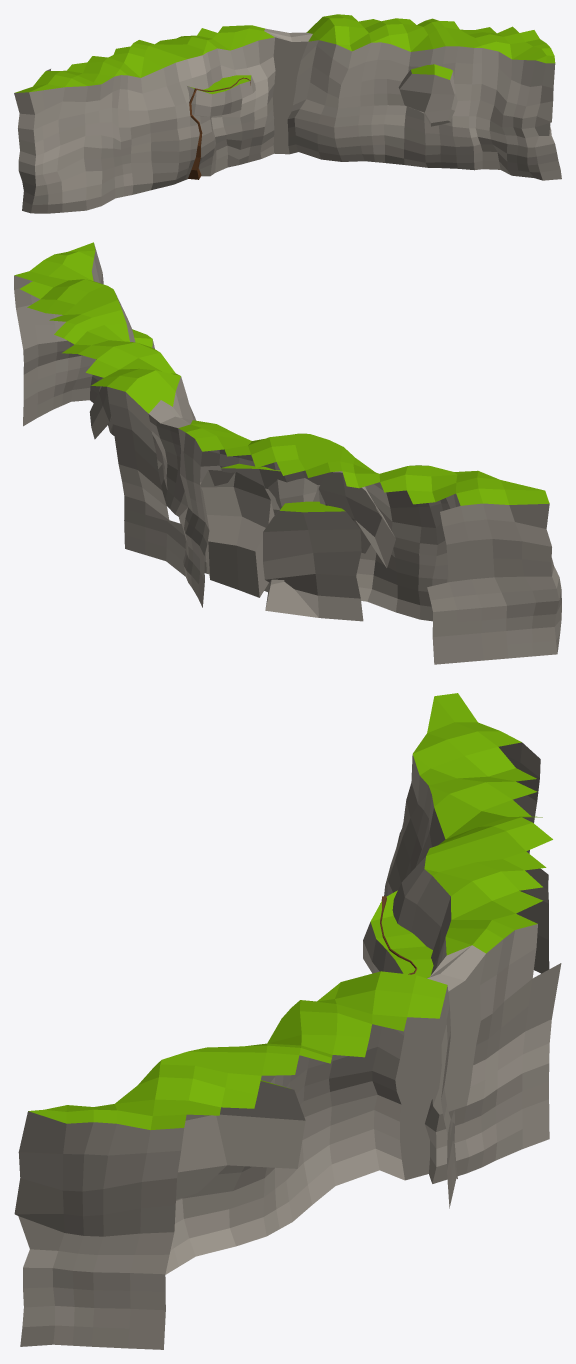
The model's file is Cliff 004.fbx.
3 renders of one model, top to bottom at view 1: azimuth 30°, elevation 25°; view 2: azimuth 150°, elevation 25°; view 3: azimuth 270°, elevation 25°, orthographic. The views are drawn at different scales.
Visible parts, largest first — view 1: Cliff 004; view 2: Cliff 004; view 3: Cliff 004.
Part boxes in pixels (x1,y1,x2,y2): Cliff 004: (14,14,561,213); Cliff 004: (14,242,561,664); Cliff 004: (14,693,561,1349).
Size of the model in its own units: 2065 by 574 by 1078.
